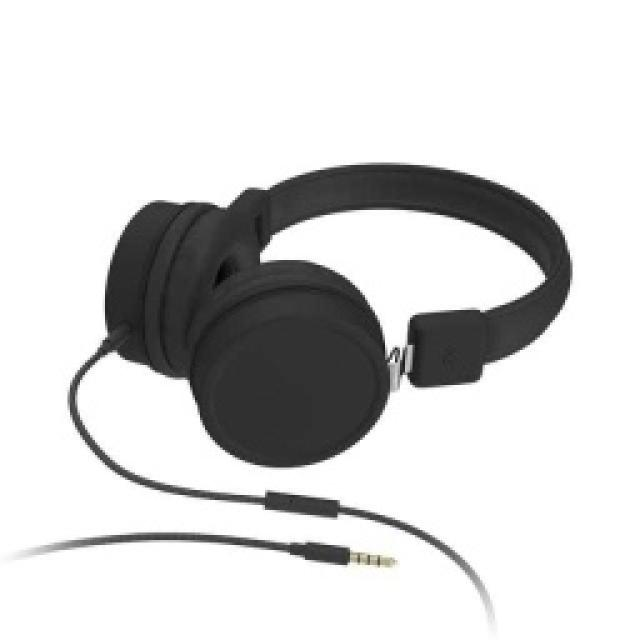headphones: (100, 160, 572, 468)
